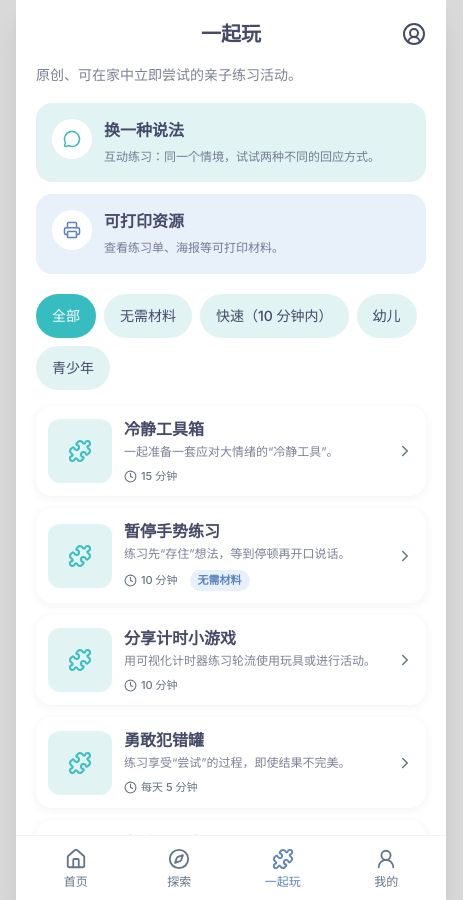
Test: Activities page filters › narrows the list to quick activities
This screenshot has width=463, height=900.
Click the button "快速（10 分钟内）" at [274, 316], box [200,294,349,338]
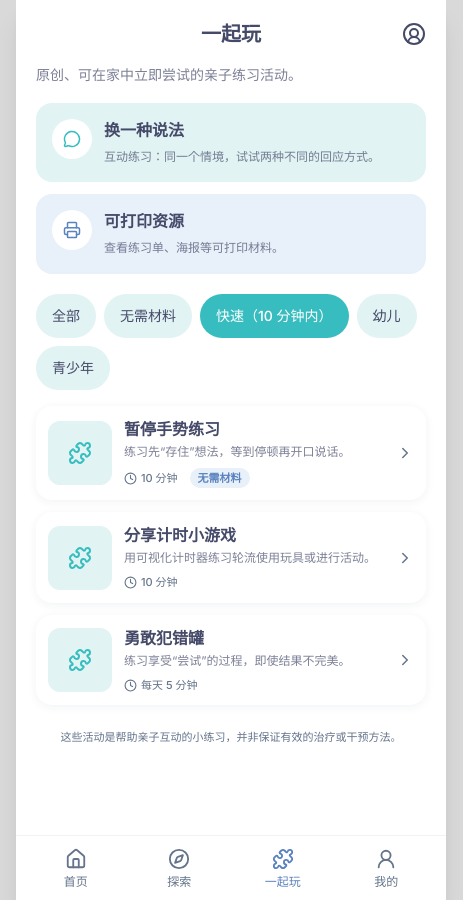
Expected: the heading "暂停手势练习" is shown, [124,421,220,438]
Result: the link "冷静工具箱" is gone
